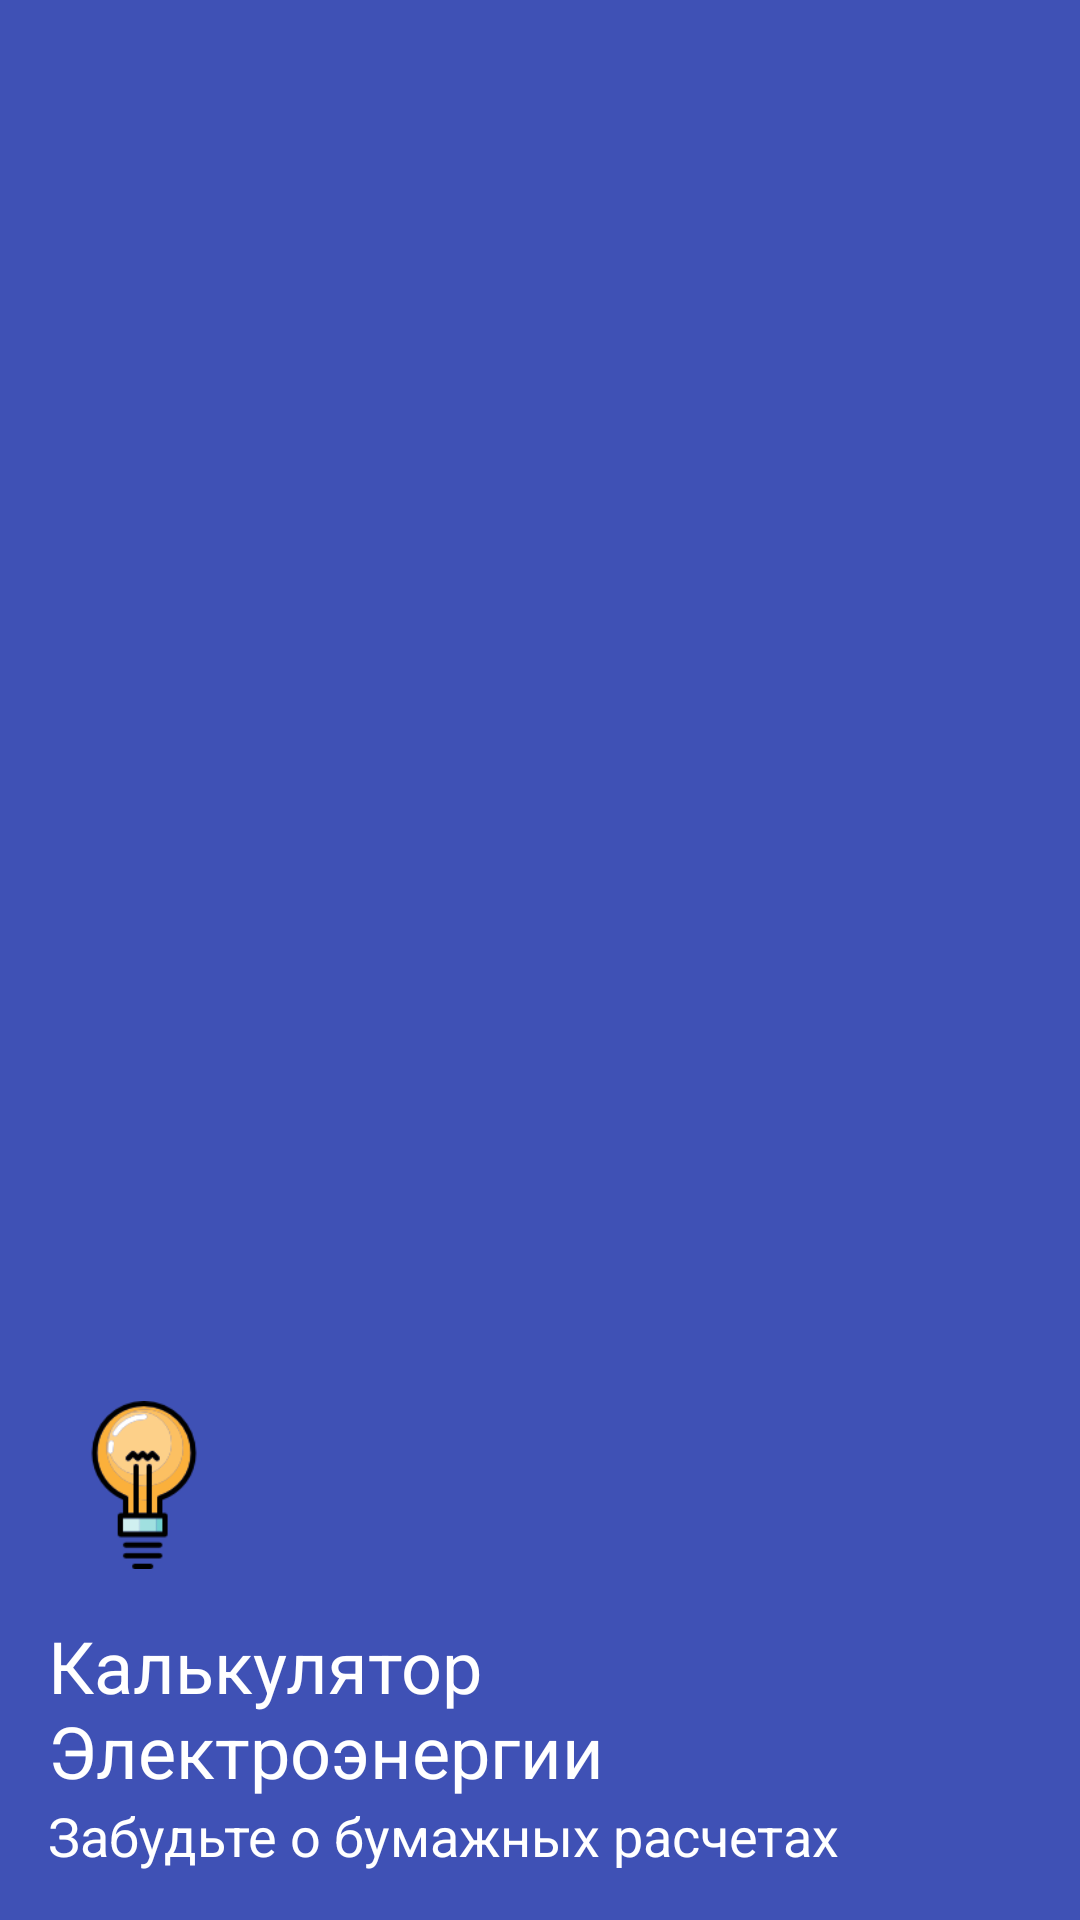

Locate icon controls on the screen. Image size 1080w x 1920h, boxes as [x1=x1, y1=y1, x2=x2, y2=y2].
lamp: [x1=91, y1=1401, x2=197, y2=1569]
